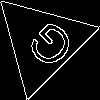G: (17, 17, 78, 78)
